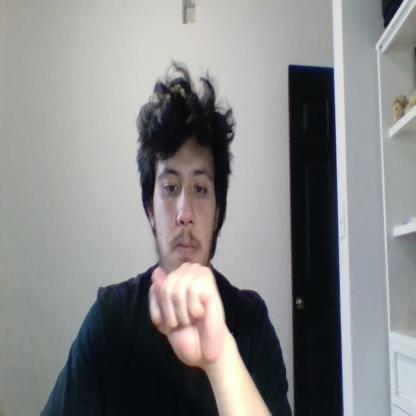T: (148, 260, 228, 369)
